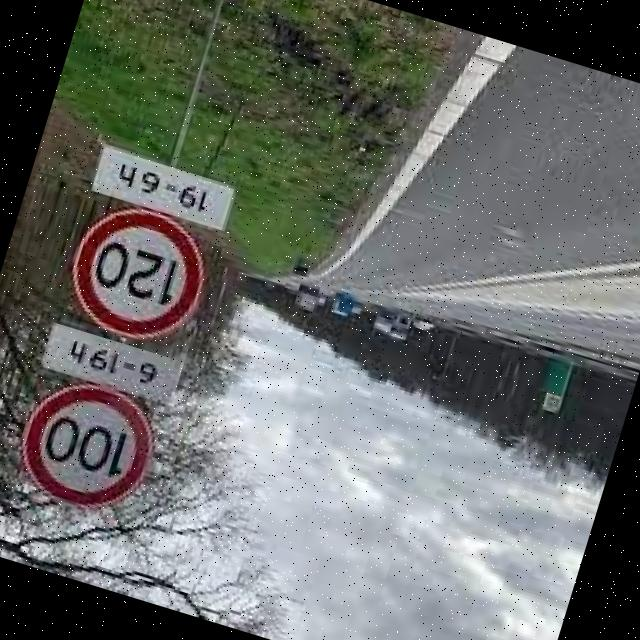speed_limit_100: (0, 365, 170, 534)
speed_limit_120: (48, 191, 224, 362)
